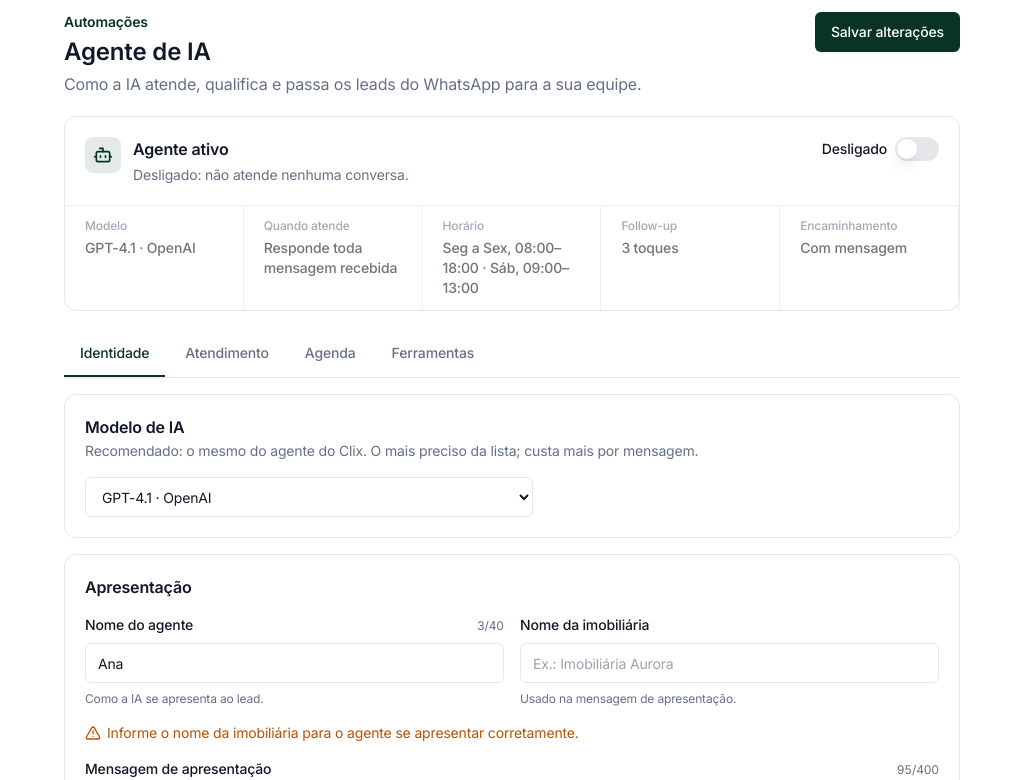
Scenario: discards unsaved changes back to the last saved version
Replace the text in the field labelled "Nome do agente" with "Lia" at (294, 663), box [85,643,504,683]
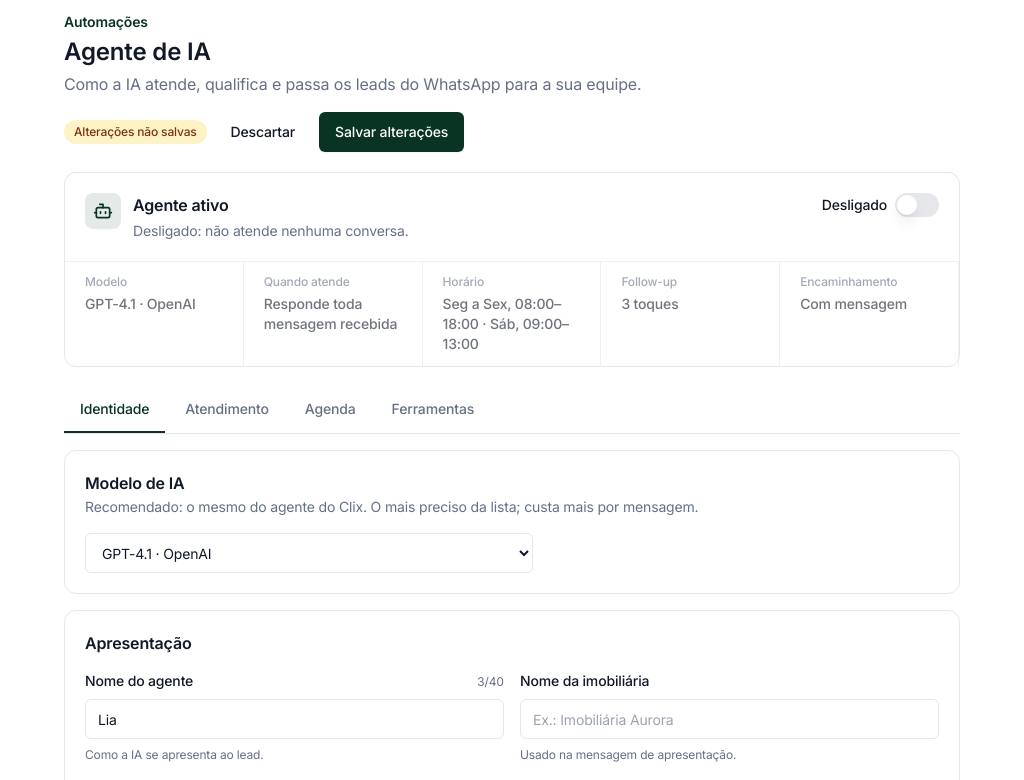
Click the button "Descartar".
click(263, 132)  # box [215,112,311,152]
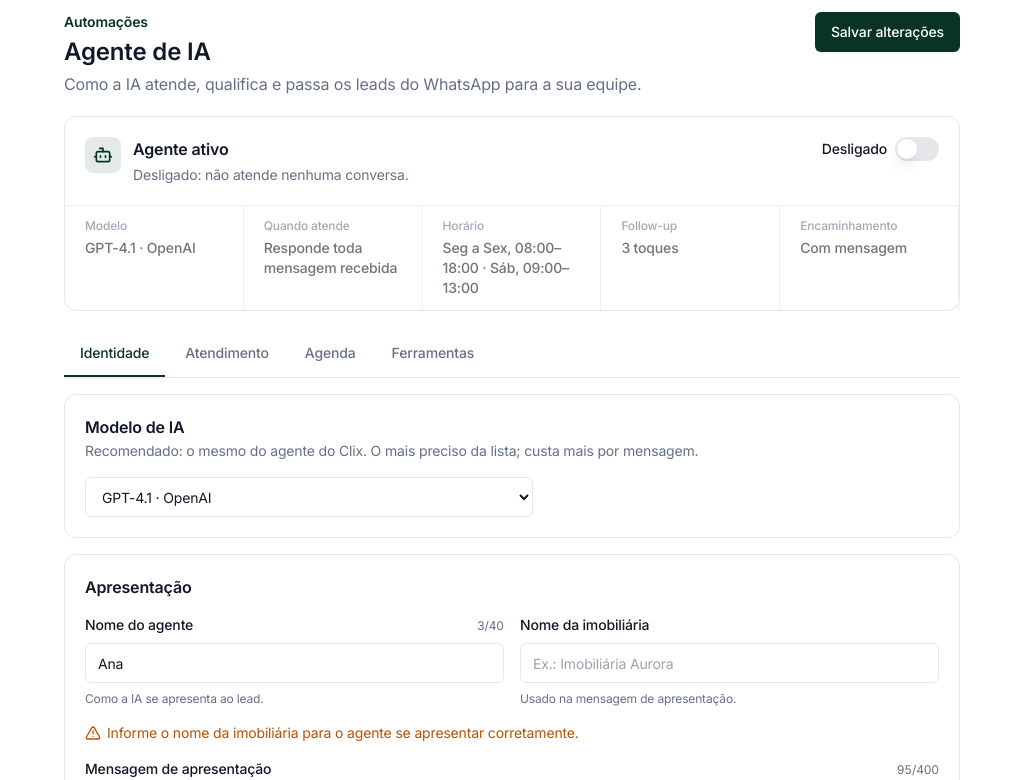
Expected: the field labelled "Nome do agente" holds "Ana", [85,643,504,683]
Expected: the text "Alterações não salvas" is gone
